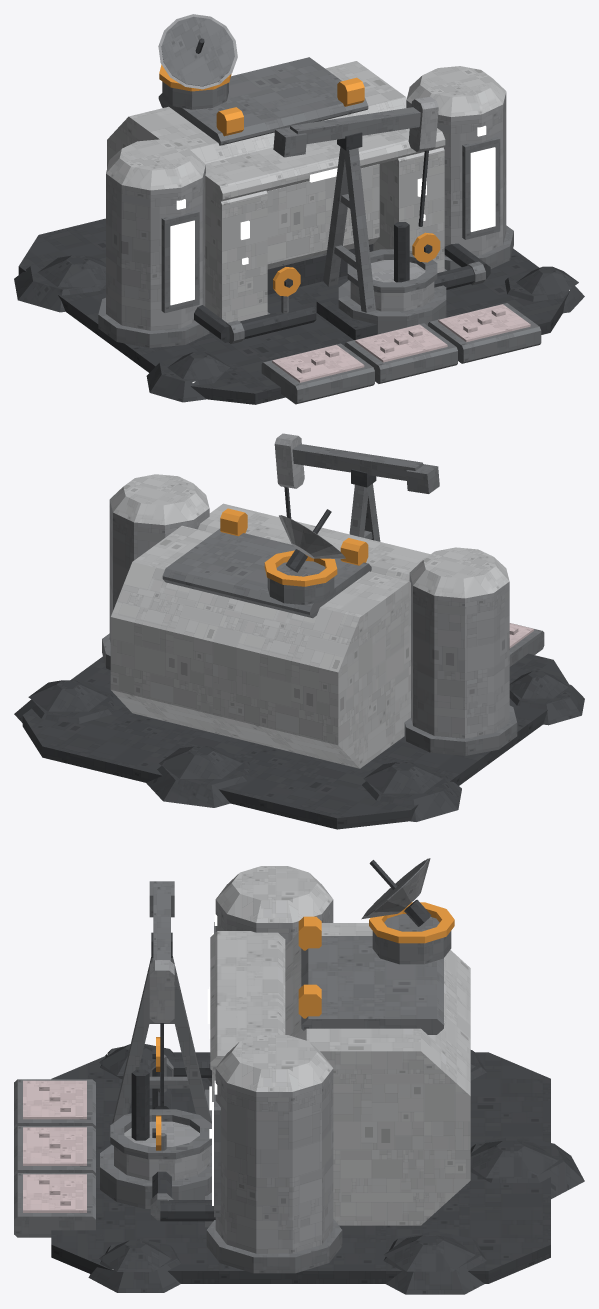
The model's file is rig_brine_lod0.glb.
3 views of the same model, one above another, from view 1: azimuth 30°, elevation 25°; view 2: azimuth 150°, elevation 25°; view 3: azimuth 270°, elevation 25° (orthographic). The views are drawn at different scales.
Parts seen in each view (by area): view 1: rig_brine_base_body, rig_brine_salt_body, rig_brine_pump_body, rig_brine_dish_body, rig_brine_brine_glow, rig_brine_base_trim, rig_brine_base_glow; view 2: rig_brine_base_body, rig_brine_pump_body, rig_brine_base_trim, rig_brine_dish_body; view 3: rig_brine_base_body, rig_brine_salt_body, rig_brine_pump_body, rig_brine_base_trim, rig_brine_dish_body.
Part boxes in pixels (box(x1,y1,x2,y2)): rig_brine_base_body: box(14, 57, 584, 404); rig_brine_salt_body: box(272, 304, 530, 382); rig_brine_pump_body: box(273, 96, 438, 226); rig_brine_dish_body: box(158, 14, 237, 89); rig_brine_brine_glow: box(170, 147, 495, 305); rig_brine_base_trim: box(159, 64, 440, 296); rig_brine_base_glow: box(176, 125, 569, 382); rig_brine_base_body: box(14, 469, 584, 829); rig_brine_pump_body: box(274, 433, 439, 518); rig_brine_base_trim: box(220, 508, 368, 586); rig_brine_dish_body: box(279, 509, 345, 572); rig_brine_base_body: box(14, 866, 584, 1294); rig_brine_salt_body: box(23, 1080, 86, 1212); rig_brine_pump_body: box(149, 881, 174, 1107); rig_brine_base_trim: box(156, 902, 454, 1150); rig_brine_dish_body: box(361, 858, 431, 926).
Bounding box in the file's own units: 3.22 × 1.76 × 3.2.
3 materials, 1 textured.
